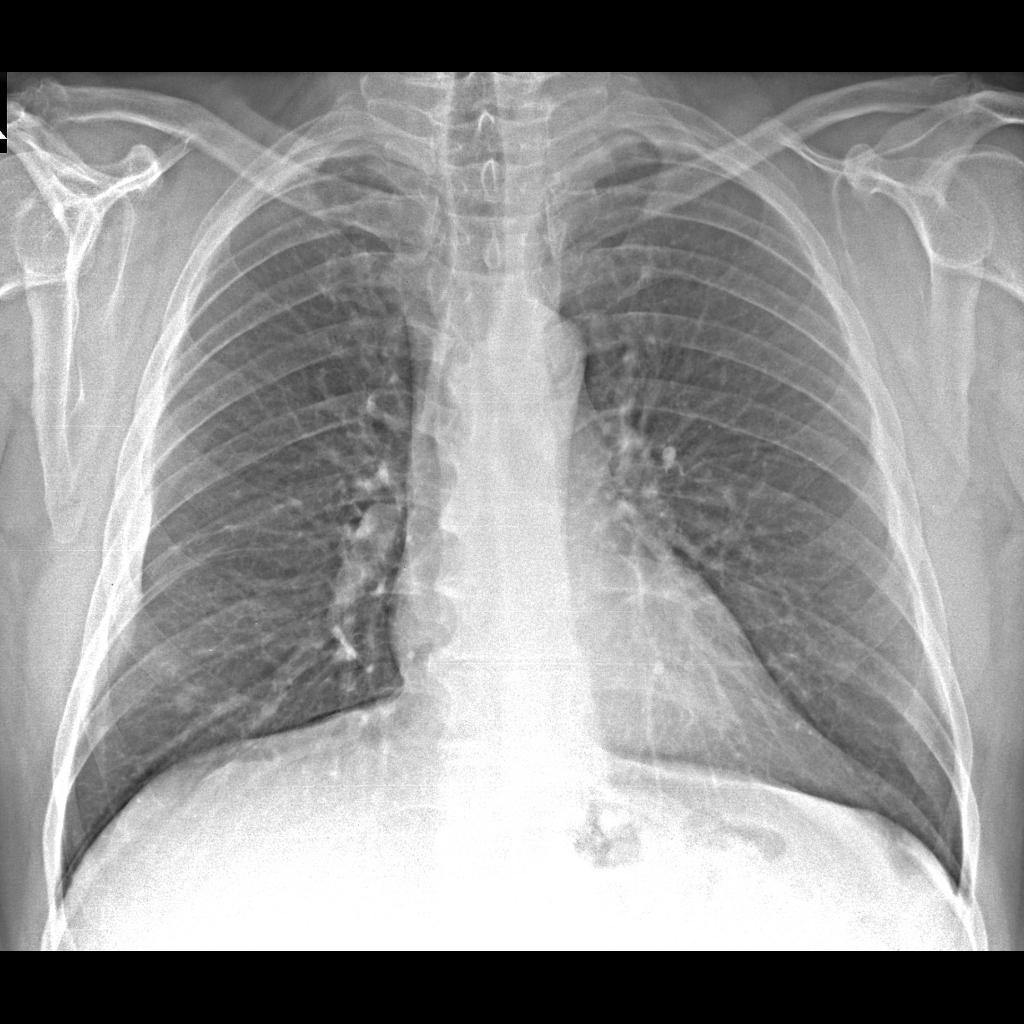Nodule: (168, 682, 208, 720)
